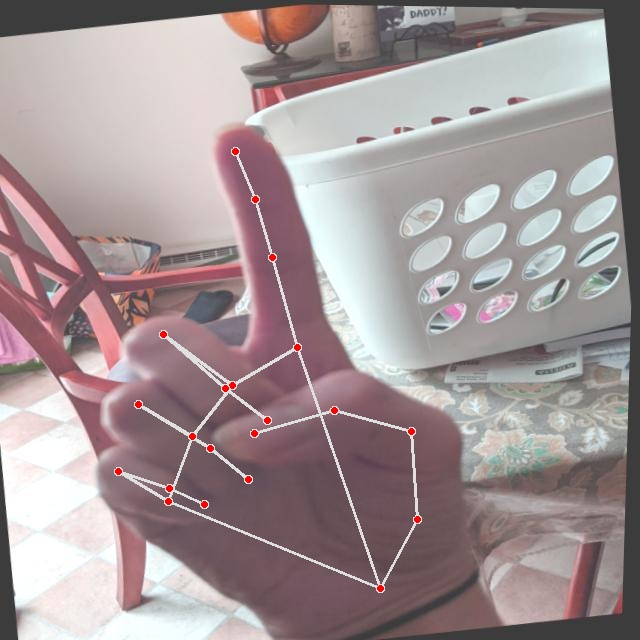D: (46, 88, 505, 639)
